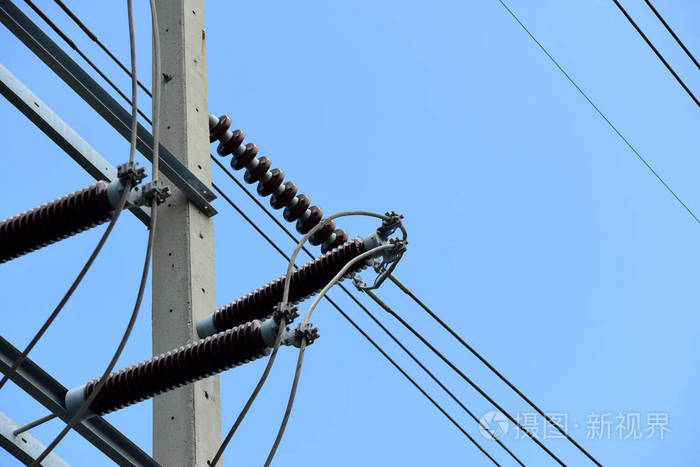insulator: (206, 115, 347, 246)
